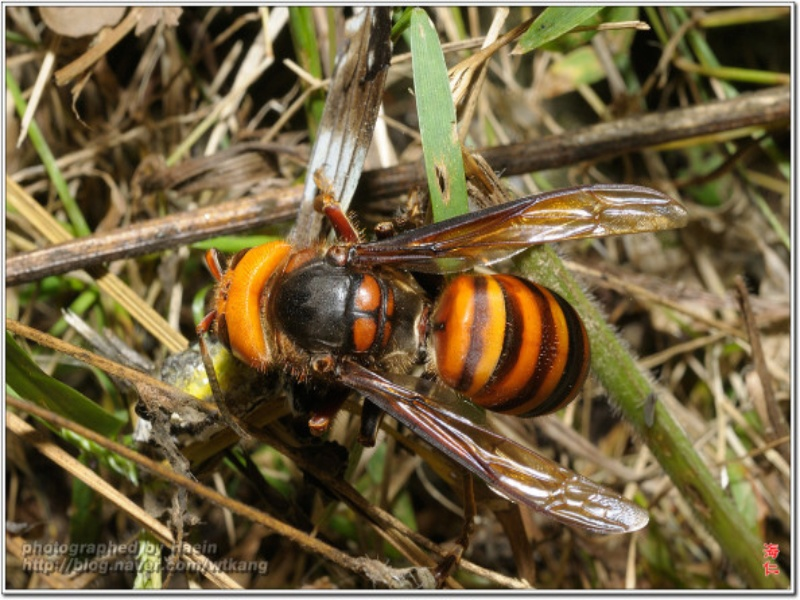asian_giant_hornet: (201, 236, 594, 434)
